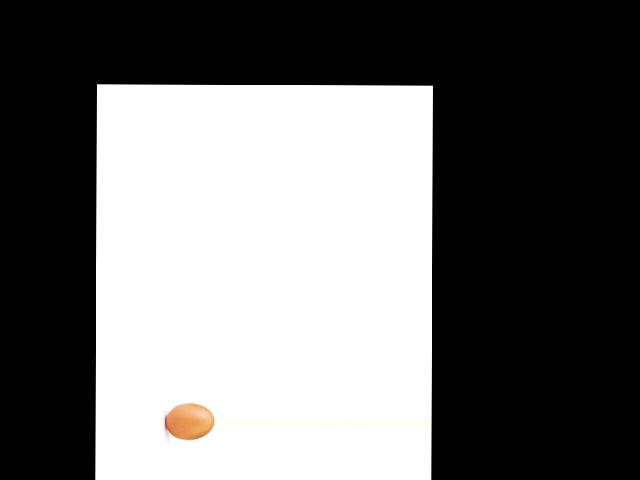egg: (165, 404, 214, 440)
